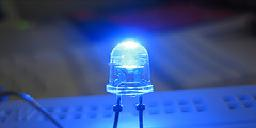LED: (106, 39, 157, 126)
